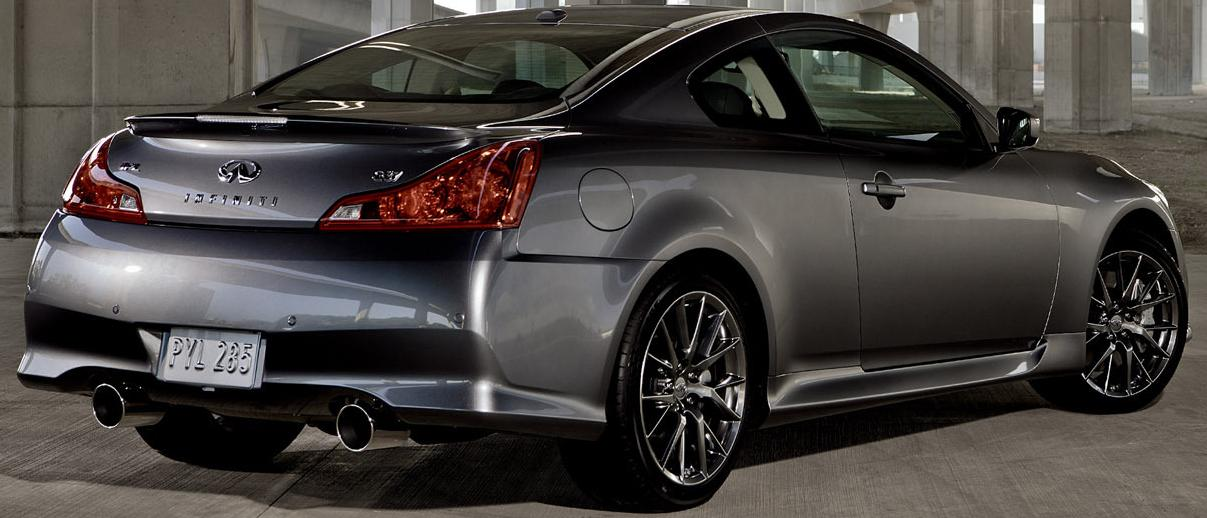back_view: (13, 131, 555, 456)
backlight: (311, 135, 544, 237)
side_glass: (678, 23, 1000, 162)
